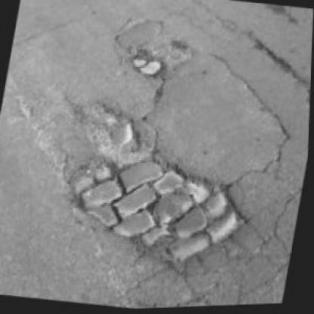Hueco: (57, 142, 260, 284), (77, 97, 151, 165), (130, 48, 167, 81)
